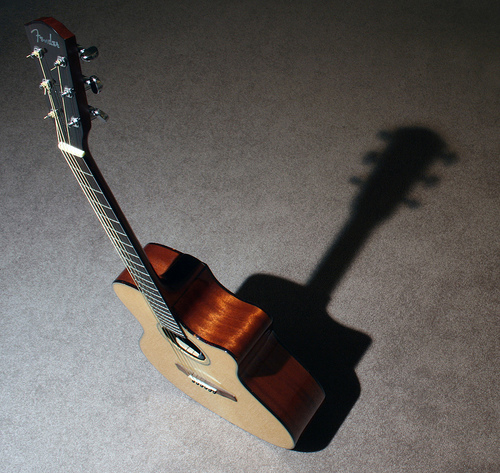guitar: (22, 17, 323, 452)
